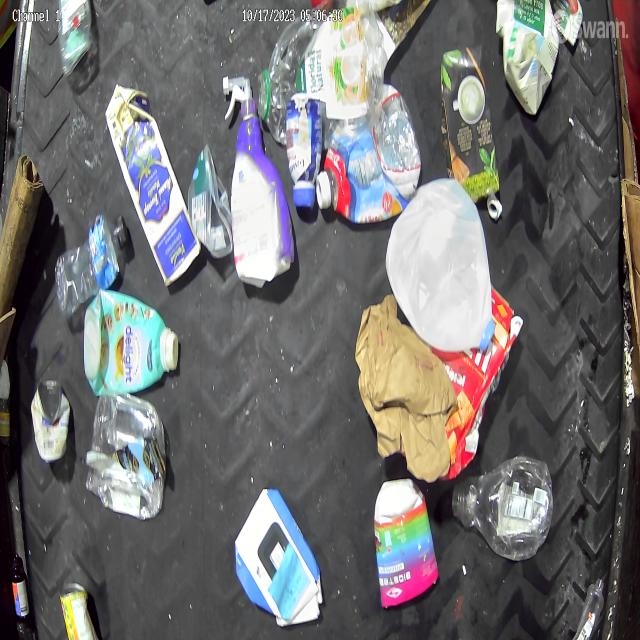can: (30, 379, 72, 462), (61, 580, 100, 640)
milk_jug: (385, 174, 493, 355)
non_white_jug: (229, 110, 293, 279), (85, 290, 180, 393)
plastic_bottle: (453, 457, 555, 560), (56, 214, 127, 319), (568, 577, 606, 640)
